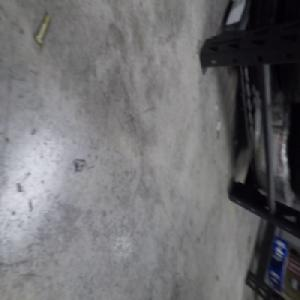Bolt: (33, 13, 52, 49)
